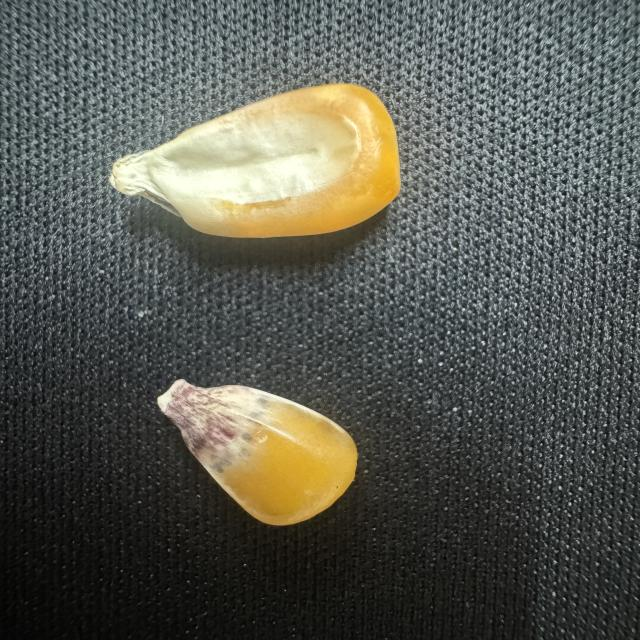Bad-Seed: (140, 367, 367, 540)
Good-Seed: (93, 78, 416, 265)
